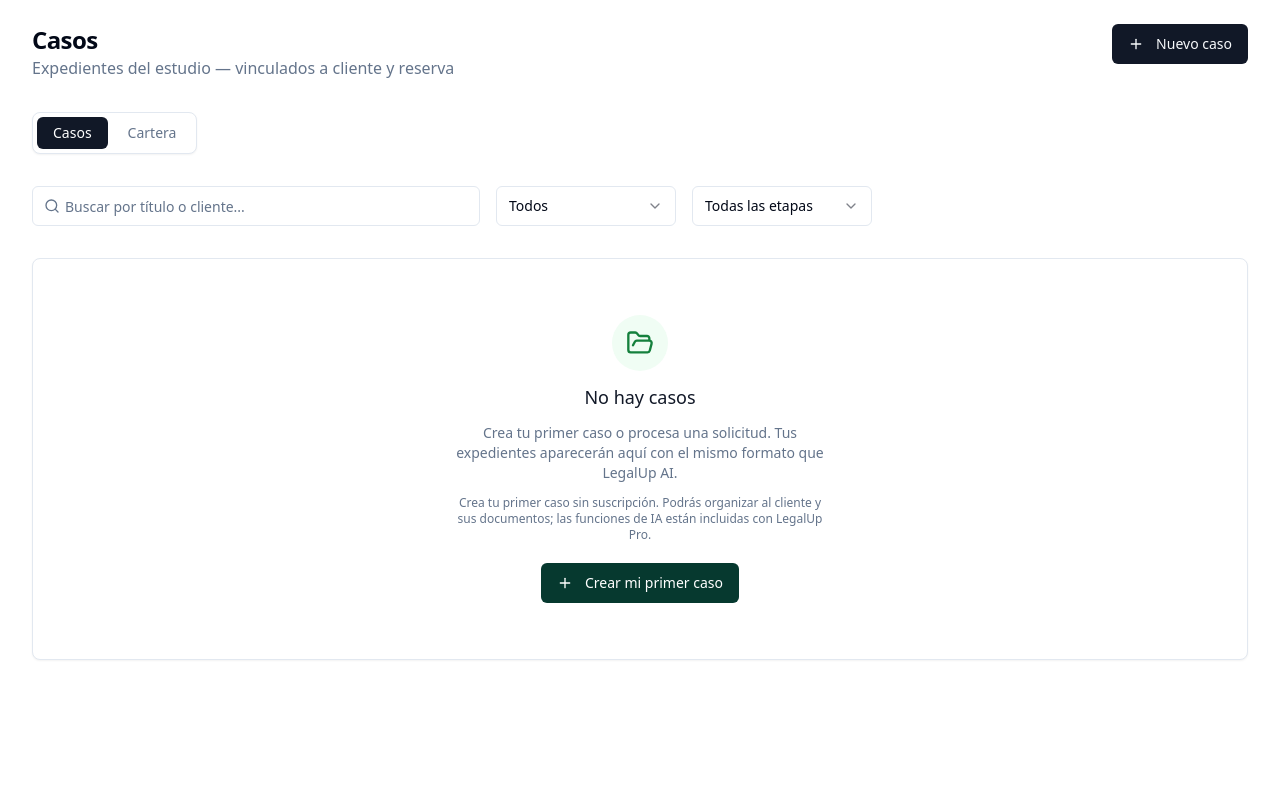
Test case: 4.31C — New Case client dropdown › loading: shows loading state, not a misleading final empty list
This screenshot has width=1280, height=800.
Click the button "Nuevo caso" at (1180, 44), box [1112,24,1248,64]
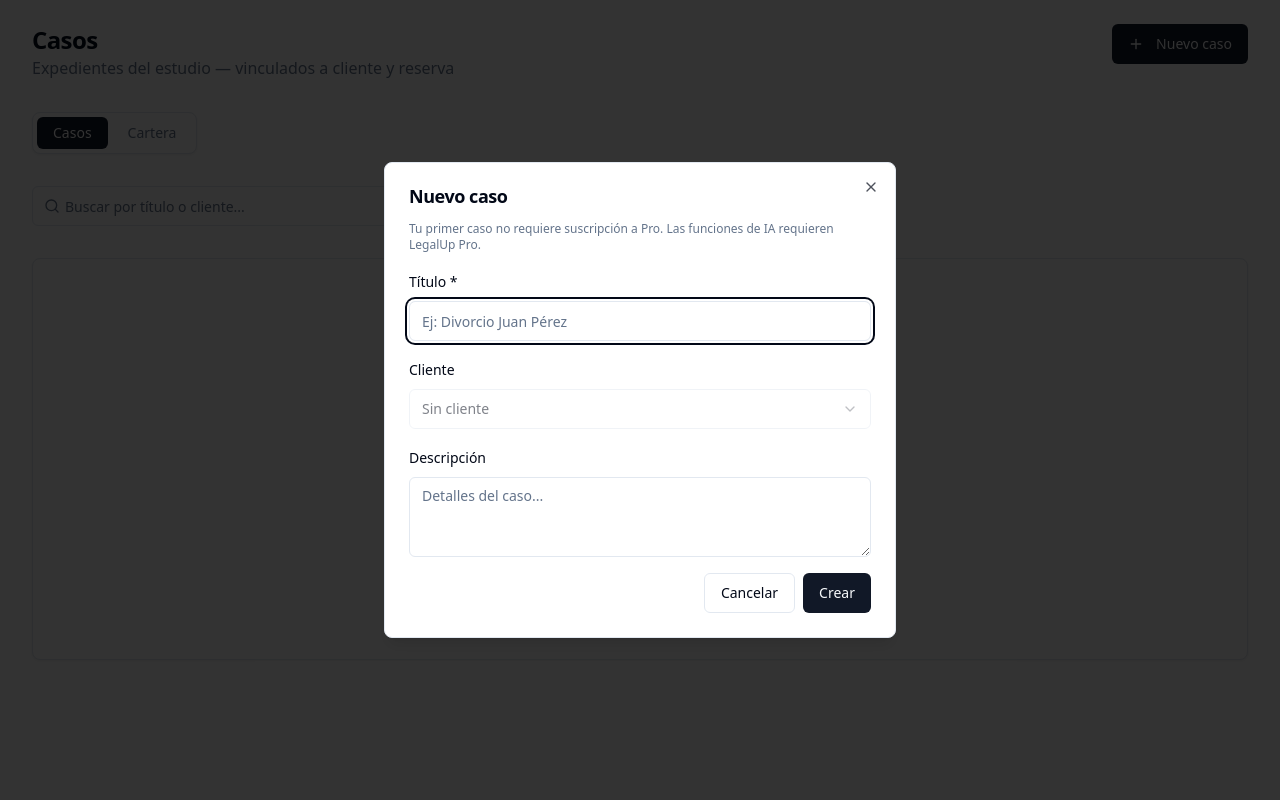
Now the dropdown is disabled, box [409,389,871,429]
